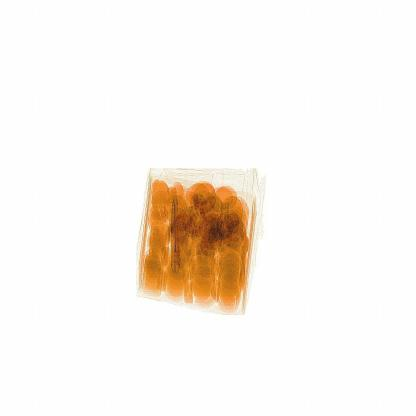pliers: (170, 184, 198, 280)
